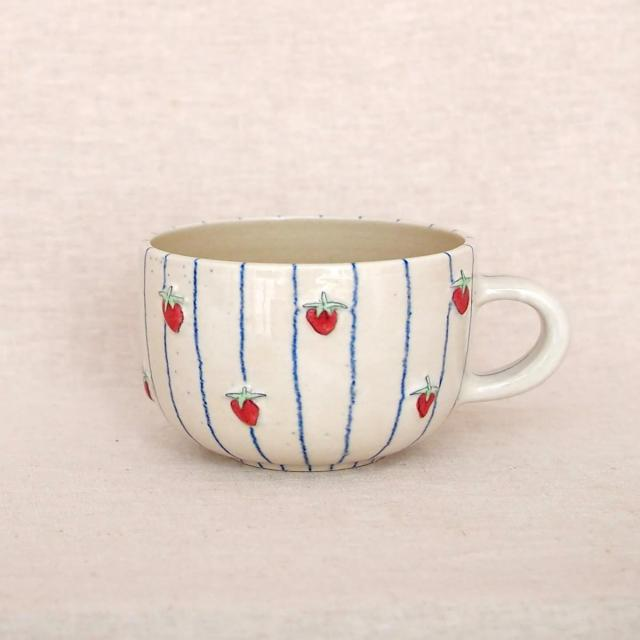glass cup: (143, 213, 570, 473)
